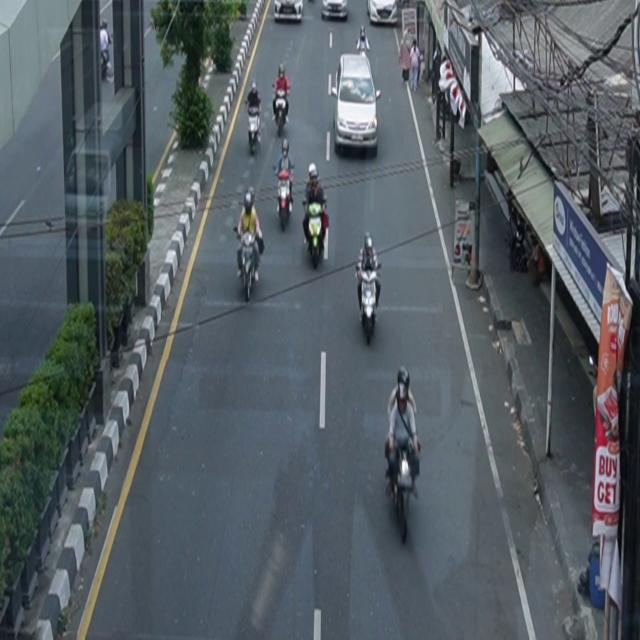car: (331, 53, 382, 157), (275, 1, 305, 23), (322, 1, 349, 21)
